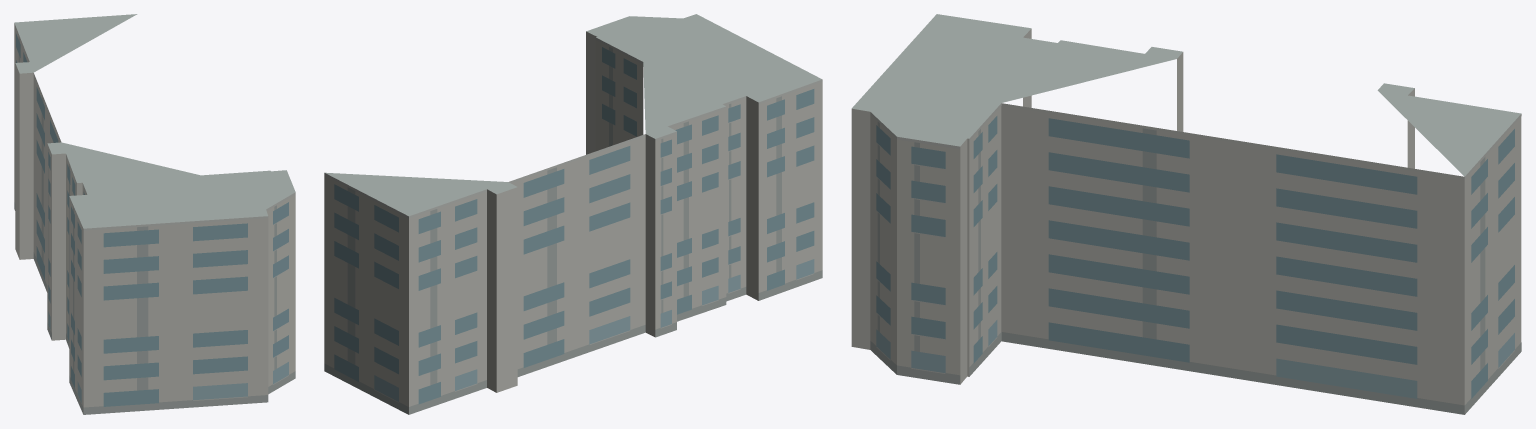
File: survey-upis-32706648.glb
3 views of the same model, side by side, from view 1: azimuth 30°, elevation 25°; view 2: azimuth 150°, elevation 25°; view 3: azimuth 270°, elevation 25° (orthographic). The views are drawn at different scales.
Parts seen in each view (by area): view 1: survey-upis-32706648.tmp; view 2: survey-upis-32706648.tmp; view 3: survey-upis-32706648.tmp.
Boxes of the visible parts, x1,y1,x2,y2 form: survey-upis-32706648.tmp: (14, 14, 295, 414); survey-upis-32706648.tmp: (324, 14, 822, 414); survey-upis-32706648.tmp: (851, 14, 1521, 414).
Bounding box in the file's own units: 31.29 × 21.35 × 54.43.
